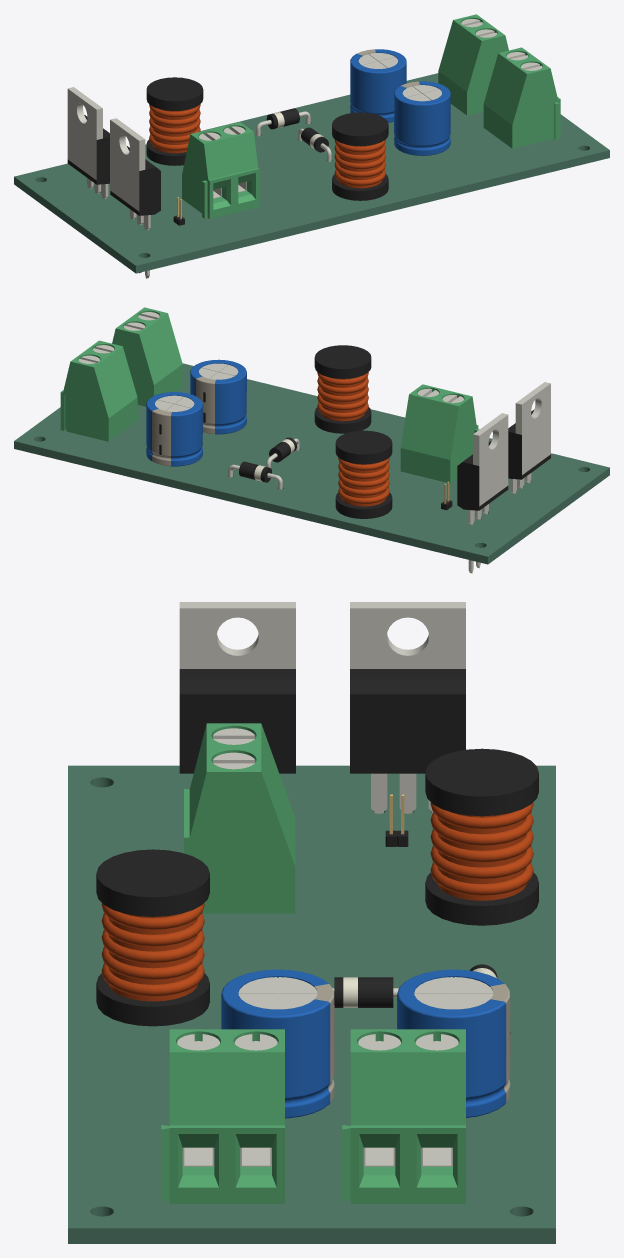
The model's file is 3D_prototype.glb.
3 renders of one model, top to bottom at view 1: azimuth 30°, elevation 25°; view 2: azimuth 150°, elevation 25°; view 3: azimuth 270°, elevation 25°, orthographic. The views are drawn at different scales.
Parts seen in each view (by area): view 1: =>[0:1:1:14], =>[0:1:1:11] (×3), =>[0:1:1:3] (×2), =>[0:1:1:7] (×2), =>[0:1:1:9] (×2), =>[0:1:1:13] (×2); view 2: =>[0:1:1:14], =>[0:1:1:11] (×3), =>[0:1:1:3] (×2), =>[0:1:1:9] (×2), =>[0:1:1:7] (×2), =>[0:1:1:13] (×2); view 3: =>[0:1:1:14], =>[0:1:1:11] (×3), =>[0:1:1:3] (×2), =>[0:1:1:7] (×2), =>[0:1:1:9] (×2), =>[0:1:1:13].
Part boxes in pixels (x1,y1,x2,y2): =>[0:1:1:14]: (14, 73, 609, 273); =>[0:1:1:11] (×3): (182, 14, 560, 218); =>[0:1:1:3] (×2): (146, 77, 388, 200); =>[0:1:1:7] (×2): (67, 87, 160, 278); =>[0:1:1:9] (×2): (350, 49, 450, 155); =>[0:1:1:13] (×2): (256, 108, 331, 161); =>[0:1:1:14]: (14, 363, 609, 564); =>[0:1:1:11] (×3): (60, 307, 479, 483); =>[0:1:1:3] (×2): (314, 345, 392, 518); =>[0:1:1:9] (×2): (146, 359, 246, 466); =>[0:1:1:7] (×2): (457, 382, 550, 573); =>[0:1:1:13] (×2): (228, 437, 299, 489); =>[0:1:1:14]: (68, 765, 555, 1243); =>[0:1:1:11] (×3): (161, 723, 465, 1203); =>[0:1:1:3] (×2): (96, 748, 538, 1026); =>[0:1:1:7] (×2): (179, 602, 465, 813); =>[0:1:1:9] (×2): (221, 969, 510, 1118); =>[0:1:1:13]: (332, 977, 398, 1007).
Size of the model in its own units: 0.0965 by 0.0285 by 0.043.
